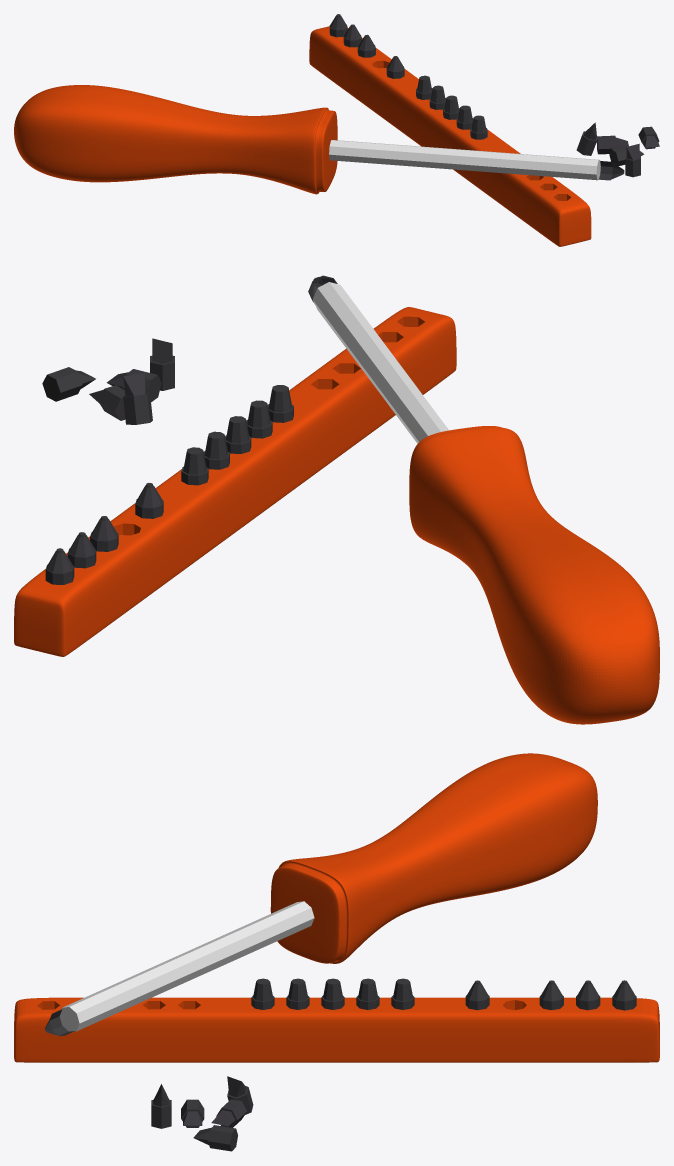
The model's file is screwdriverWithBitsF.fbx.
3 views of the same model, one above another, from view 1: azimuth 30°, elevation 25°; view 2: azimuth 150°, elevation 25°; view 3: azimuth 270°, elevation 25° (orthographic). The views are drawn at different scales.
Visible parts, largest first — view 1: Cube, Cube.001, Cylinder.003, Cylinder.005, Cylinder.006, Cylinder.007, Cylinder.010, Cylinder.009; view 2: Cube, Cube.001, Cylinder.003, Cylinder.005, Cylinder.007, Cylinder.009, Cylinder.006, Cylinder.004, Cylinder.010; view 3: Cube, Cube.001, Cylinder.003, Cylinder.005, Cylinder.009, Cylinder.006, Cylinder.010, Cylinder.008.
Boxes of the visible parts, x1,y1,x2,y2 form: Cube: [14, 85, 624, 194]; Cube.001: [309, 26, 591, 246]; Cylinder.003: [416, 75, 487, 139]; Cylinder.005: [329, 14, 375, 57]; Cylinder.006: [625, 143, 640, 177]; Cylinder.007: [576, 122, 598, 155]; Cylinder.010: [596, 135, 628, 154]; Cylinder.009: [638, 126, 659, 149]; Cube: [308, 275, 659, 724]; Cube.001: [14, 307, 456, 656]; Cylinder.003: [181, 385, 293, 485]; Cylinder.005: [45, 516, 118, 584]; Cylinder.007: [123, 373, 152, 424]; Cylinder.009: [42, 367, 95, 401]; Cylinder.006: [150, 338, 174, 390]; Cylinder.004: [135, 483, 163, 518]; Cylinder.010: [89, 385, 125, 420]; Cube: [45, 753, 597, 1036]; Cube.001: [14, 997, 659, 1062]; Cylinder.003: [251, 978, 414, 1009]; Cylinder.005: [539, 980, 636, 1010]; Cylinder.009: [193, 1125, 237, 1151]; Cylinder.006: [151, 1084, 171, 1128]; Cylinder.010: [211, 1099, 246, 1127]; Cylinder.008: [181, 1099, 204, 1127].
Bounding box in the file's own units: 973 × 141 × 824.
